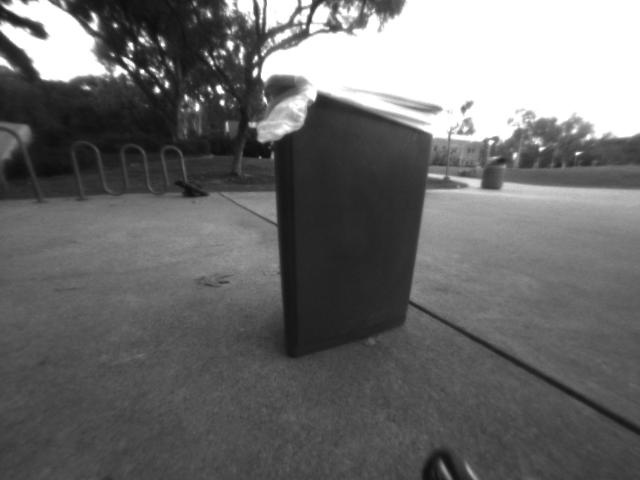trashcan: (252, 70, 453, 368)
